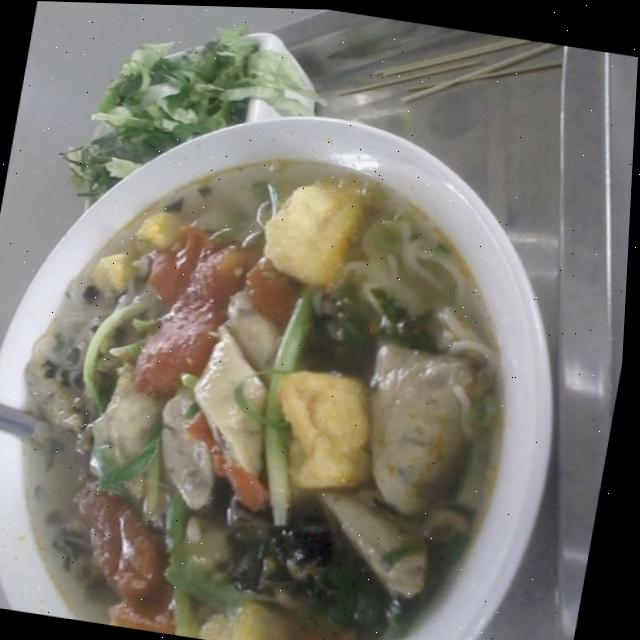面条主食: (0, 53, 638, 640)
